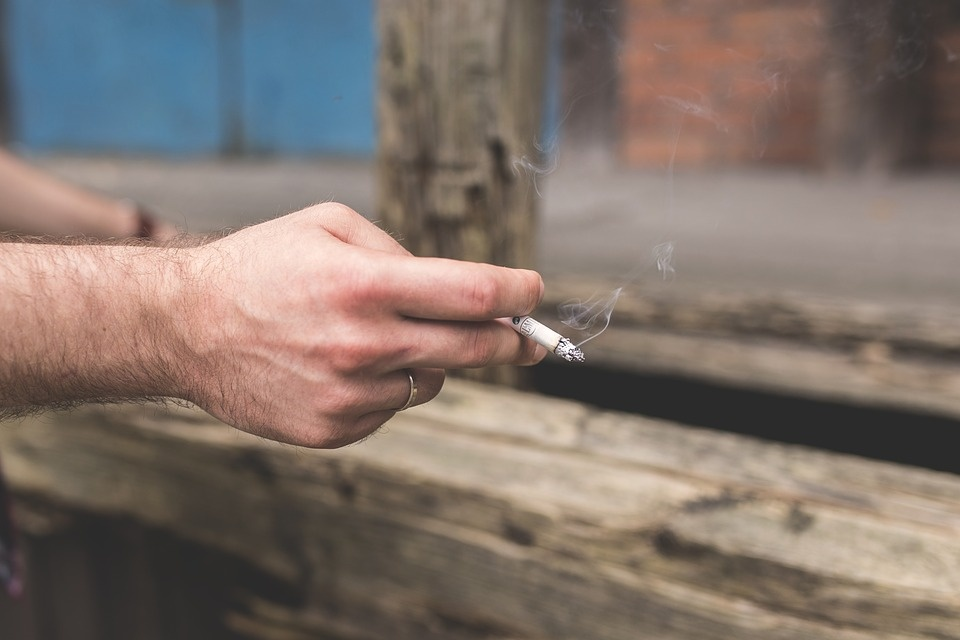sigaretta: (474, 284, 578, 366)
